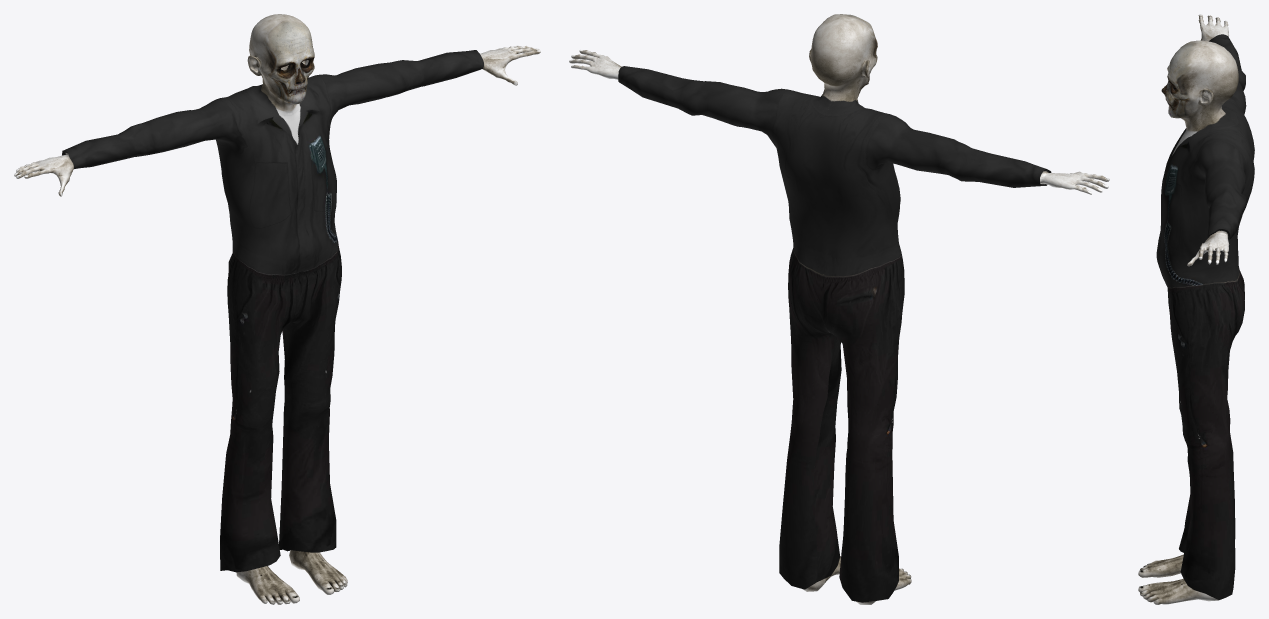
3 views of the same model, side by side, from view 1: azimuth 30°, elevation 25°; view 2: azimuth 150°, elevation 25°; view 3: azimuth 270°, elevation 25° (orthographic). The views are drawn at different scales.
Visible parts, largest first — view 1: H_DDS_MidRes; view 2: H_DDS_MidRes; view 3: H_DDS_MidRes.
Boxes of the visible parts, x1,y1,x2,y2 form: H_DDS_MidRes: (14, 14, 540, 604); H_DDS_MidRes: (569, 14, 1109, 604); H_DDS_MidRes: (1138, 14, 1254, 604).
Bounding box in the file's own units: 168 × 172 × 33.56.
1 material, 1 textured.
